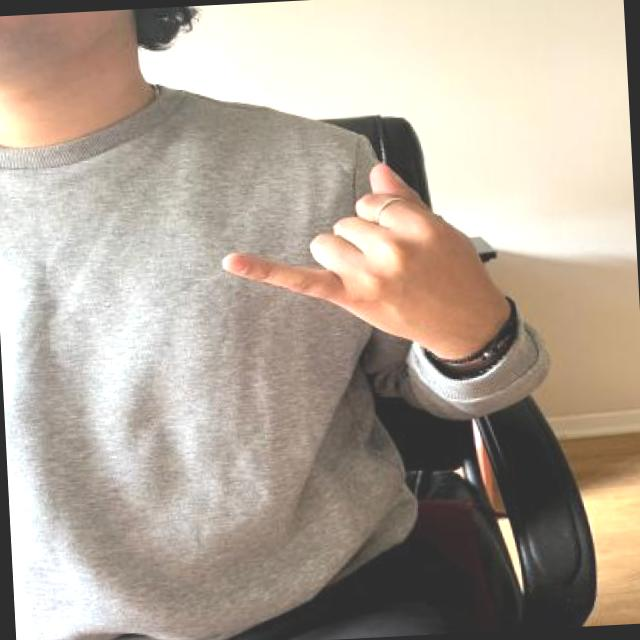J: (214, 154, 496, 356)
